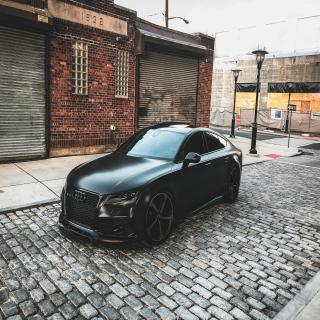Normal_vehicle: (60, 122, 248, 250)
